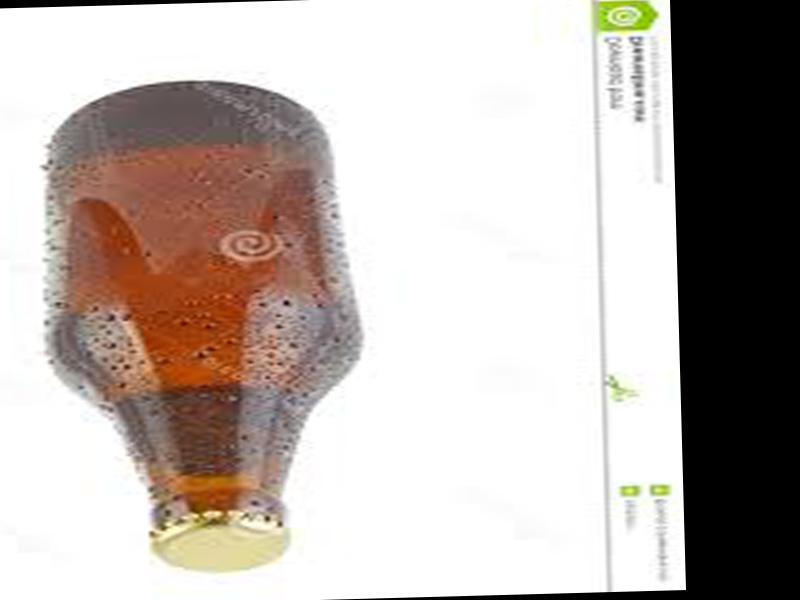Beer: (38, 78, 366, 574)
